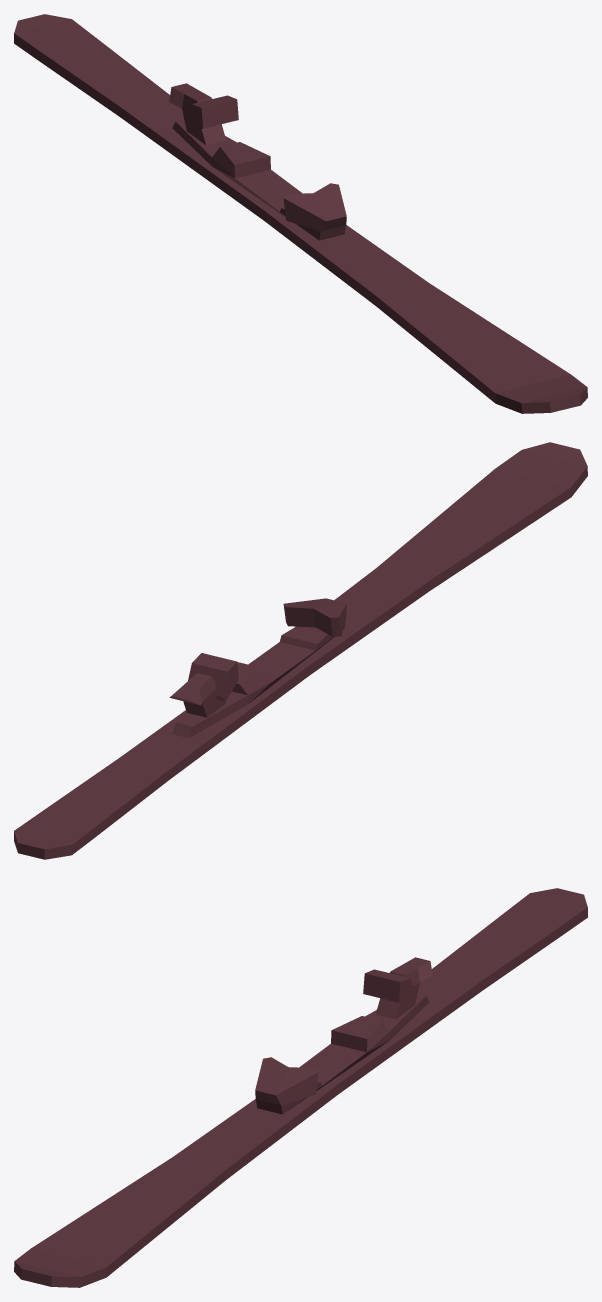
Rendered from ski.fbx.
The picture shows the model from 3 angles, top to bottom: view 1: azimuth 30°, elevation 25°; view 2: azimuth 150°, elevation 25°; view 3: azimuth 330°, elevation 25°; orthographic projection.
Parts seen in each view (by area): view 1: ski; view 2: ski; view 3: ski.
Part boxes in pixels (x1,y1,x2,y2): ski: (14, 14, 587, 413); ski: (14, 442, 587, 859); ski: (14, 888, 587, 1287).
Bounding box in the file's own units: 0.1477 × 0.1151 × 1.8.
